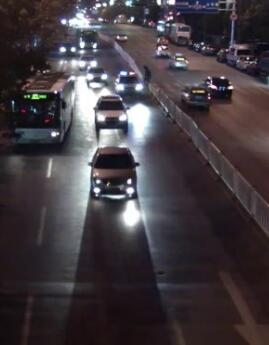bus: (8, 69, 77, 149), (165, 20, 191, 44), (77, 27, 99, 50), (156, 20, 169, 34)
car: (87, 146, 138, 198), (92, 95, 130, 133), (200, 74, 234, 99), (180, 82, 212, 108), (115, 69, 144, 96), (225, 42, 254, 68), (86, 64, 108, 85), (76, 53, 99, 71), (168, 51, 189, 69), (235, 54, 257, 71), (56, 39, 77, 55), (155, 43, 171, 58), (216, 47, 228, 63), (201, 42, 215, 55), (115, 30, 127, 41), (156, 34, 167, 46), (192, 40, 202, 52)
